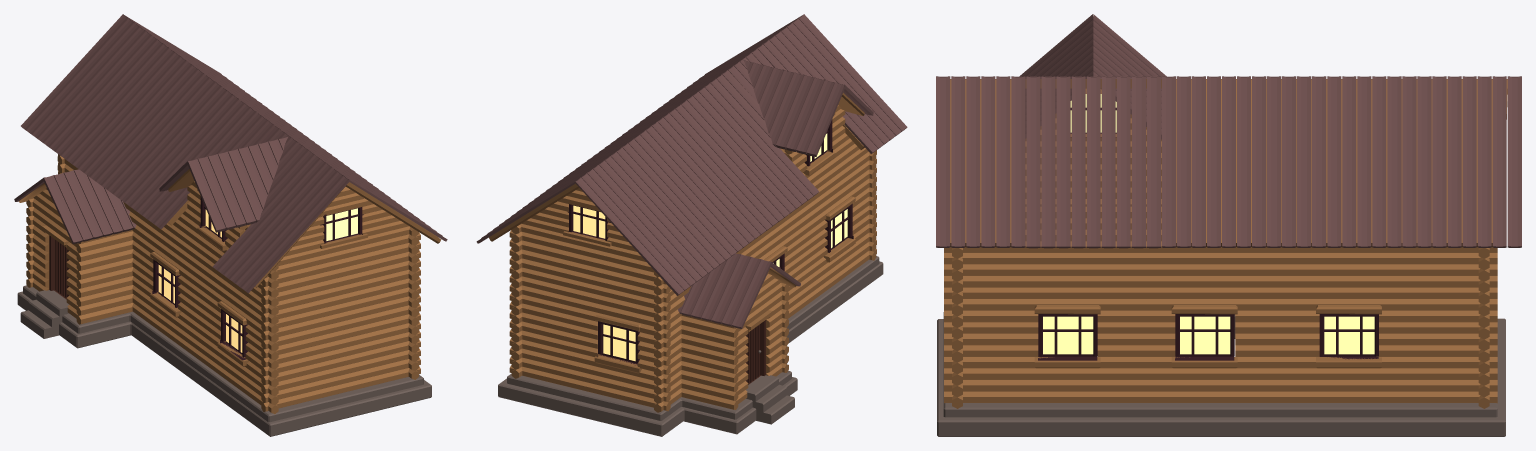
File: house_wood_2f_2x1.glb
3 renders of one model, left to right at view 1: azimuth 30°, elevation 25°; view 2: azimuth 150°, elevation 25°; view 3: azimuth 270°, elevation 25°, orthographic. The views are drawn at different scales.
Parts seen in each view (by area): view 1: w2F2to1; view 2: w2F2to1; view 3: w2F2to1.
Part boxes in pixels (box(x1,y1,x2,y2)): w2F2to1: box(14, 14, 447, 436); w2F2to1: box(476, 14, 907, 436); w2F2to1: box(936, 14, 1521, 436).
Bounding box in the file's own units: 9.48 × 8.77 × 15.09.
